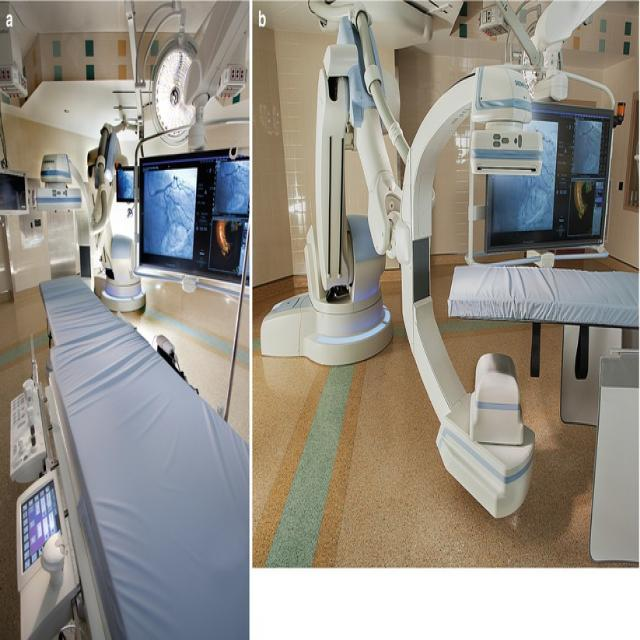Bed: (39, 277, 249, 637), (442, 251, 638, 394)
C_arm: (259, 13, 546, 524)
Light: (145, 44, 219, 147)
